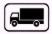Indicadores de veiculos a que se aplica a regulamentacao: (4, 3, 49, 31)
